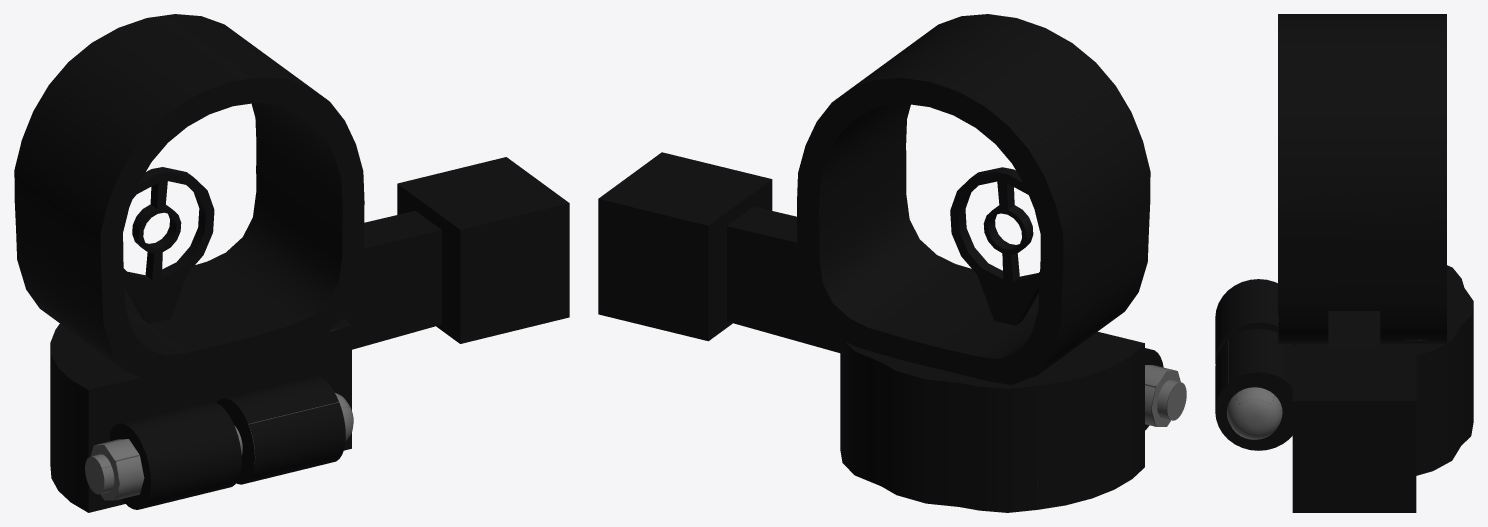
Rendered from ПТ-МехПрицелПередПл.fbx.
3 views of the same model, side by side, from view 1: azimuth 30°, elevation 25°; view 2: azimuth 150°, elevation 25°; view 3: azimuth 270°, elevation 25° (orthographic). The views are drawn at different scales.
Parts seen in each view (by area): view 1: Circle.002; view 2: Circle.002; view 3: Circle.002.
Part boxes in pixels (box(x1,y1,x2,y2)): Circle.002: box(14, 14, 569, 512); Circle.002: box(598, 14, 1186, 512); Circle.002: box(1215, 14, 1473, 512).
Size of the model in its own units: 37.97 by 31.7 by 17.61.
Materials: 1 (1 with a texture image).
